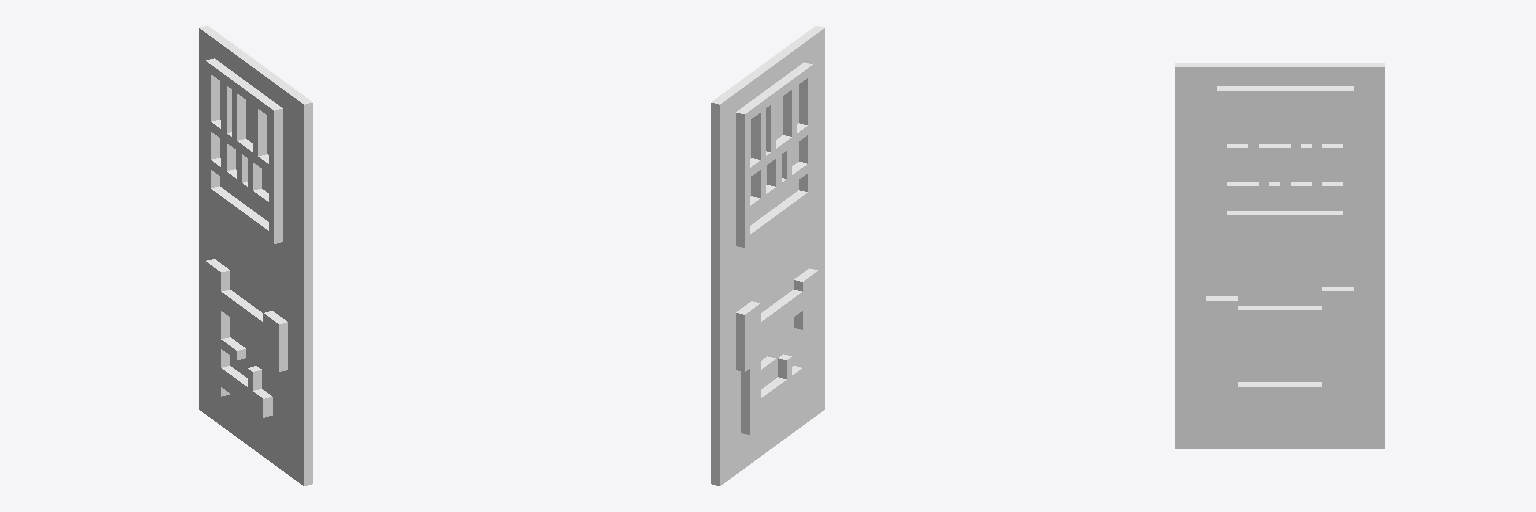
The model's file is door2.obj.
3 renders of one model, left to right at view 1: azimuth 30°, elevation 25°; view 2: azimuth 150°, elevation 25°; view 3: azimuth 270°, elevation 25°, orthographic.
Parts seen in each view (by area): view 1: object 1; view 2: object 1; view 3: object 1.
Part boxes in pixels (x1,y1,x2,y2): object 1: (199,26,312,485); object 1: (711,26,824,485); object 1: (1175,63,1384,448).
Bounding box in the file's own units: 0.3 × 4 × 2.